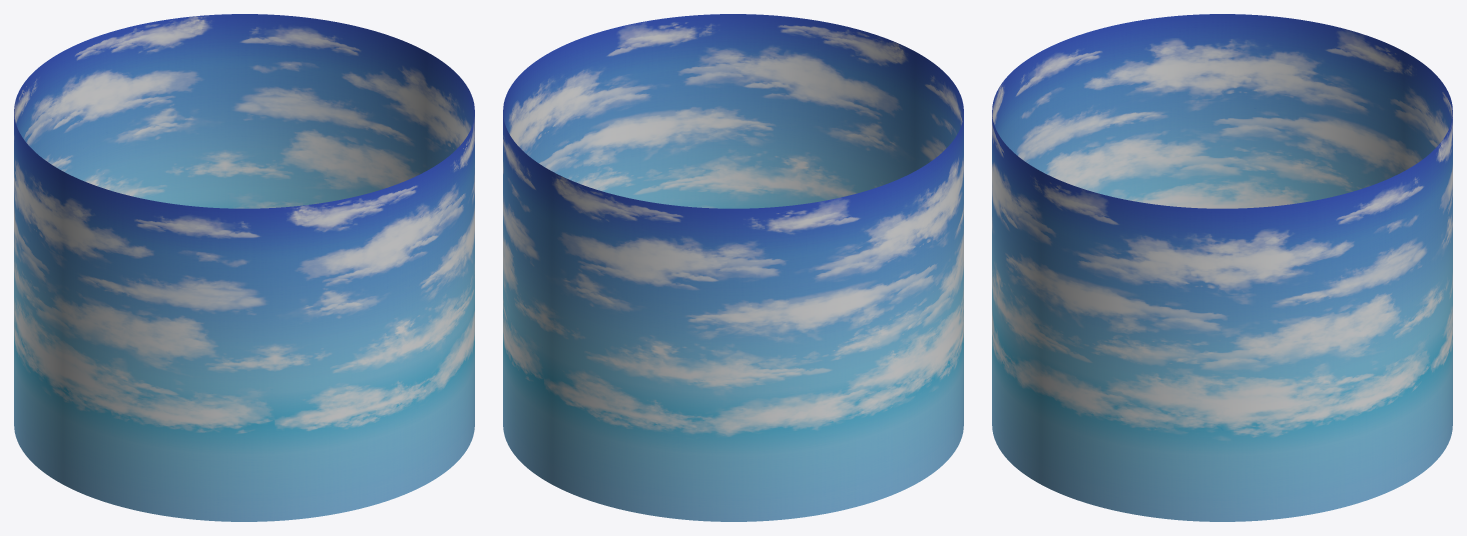
File: skybo.fbx
The picture shows the model from 3 angles, left to right: view 1: azimuth 30°, elevation 25°; view 2: azimuth 150°, elevation 25°; view 3: azimuth 270°, elevation 25°; orthographic projection.
Parts seen in each view (by area): view 1: Cylinder.001; view 2: Cylinder.001; view 3: Cylinder.001.
Part boxes in pixels (box(x1,y1,x2,y2)): Cylinder.001: box(14, 14, 474, 521); Cylinder.001: box(503, 14, 963, 521); Cylinder.001: box(992, 14, 1452, 521).
Size of the model in its own units: 511 by 383 by 511.
1 material, 1 textured.
